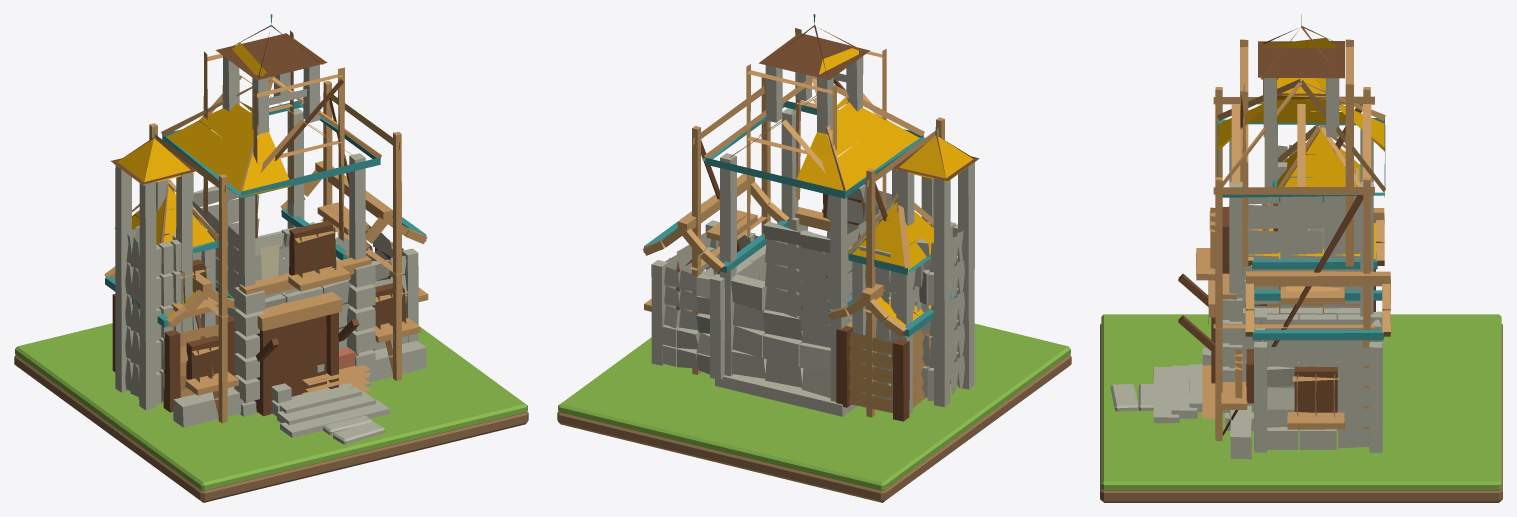
Rendered from town_hall_l07_construction_LOD2.glb.
3 views of the same model, side by side, from view 1: azimuth 30°, elevation 25°; view 2: azimuth 150°, elevation 25°; view 3: azimuth 270°, elevation 25° (orthographic). The views are drawn at different scales.
Visible parts, largest first — view 1: town_hall_l07_construction_foundation.001, town_hall_l07_construction_grass_tile.001, town_hall_l07_construction_earth_tile.001, town_hall_l07_construction_path_stone.005; view 2: town_hall_l07_construction_foundation.001, town_hall_l07_construction_grass_tile.001, town_hall_l07_construction_earth_tile.001; view 3: town_hall_l07_construction_foundation.001, town_hall_l07_construction_grass_tile.001, town_hall_l07_construction_earth_tile.001, town_hall_l07_construction_path_stone.005.
Boxes of the visible parts, <box> form: town_hall_l07_construction_foundation.001: <box>104,14,428,437</box>; town_hall_l07_construction_grass_tile.001: <box>15,323,527,491</box>; town_hall_l07_construction_earth_tile.001: <box>14,355,528,502</box>; town_hall_l07_construction_path_stone.005: <box>333,421,384,444</box>; town_hall_l07_construction_foundation.001: <box>643,14,979,421</box>; town_hall_l07_construction_grass_tile.001: <box>558,323,1070,491</box>; town_hall_l07_construction_earth_tile.001: <box>557,355,1071,502</box>; town_hall_l07_construction_foundation.001: <box>1153,14,1390,459</box>; town_hall_l07_construction_grass_tile.001: <box>1101,314,1501,490</box>; town_hall_l07_construction_earth_tile.001: <box>1100,324,1502,502</box>; town_hall_l07_construction_path_stone.005: <box>1110,384,1138,411</box>.
Bounding box in the file's own units: 3.6 × 4 × 3.6.
